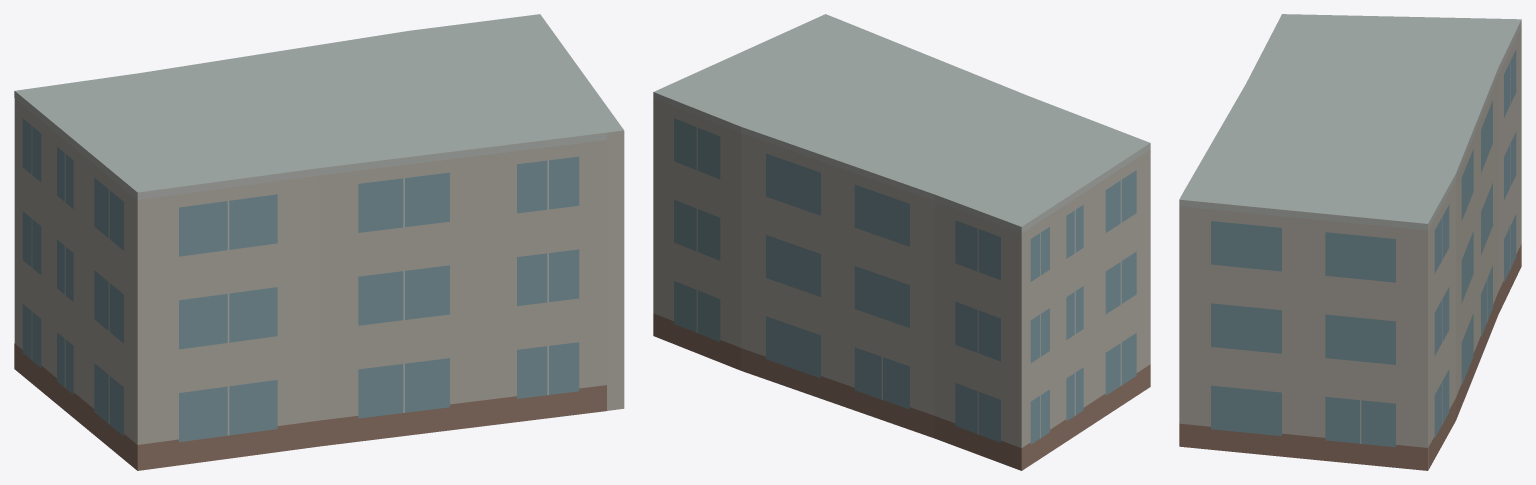
The model's file is survey-upis-32898824.glb.
The picture shows the model from 3 angles, left to right: view 1: azimuth 30°, elevation 25°; view 2: azimuth 150°, elevation 25°; view 3: azimuth 270°, elevation 25°; orthographic projection. The views are drawn at different scales.
Visible parts, largest first — view 1: survey-upis-32898824.tmp; view 2: survey-upis-32898824.tmp; view 3: survey-upis-32898824.tmp.
Boxes of the visible parts, bbox=[...] form: survey-upis-32898824.tmp: bbox=[14, 14, 624, 470]; survey-upis-32898824.tmp: bbox=[653, 14, 1150, 470]; survey-upis-32898824.tmp: bbox=[1179, 14, 1521, 470].
Size of the model in its own units: 16.69 by 9.15 by 11.51.
